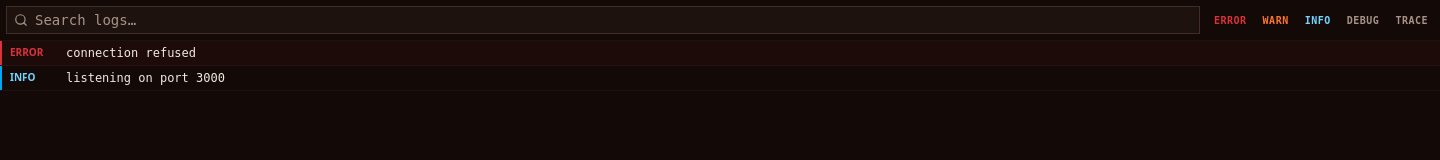
Test: switches solo to the newly clicked level
The width and height of the screenshot is (1440, 160).
Click the button "ERROR": click(1230, 20) [1208,10,1253,30]
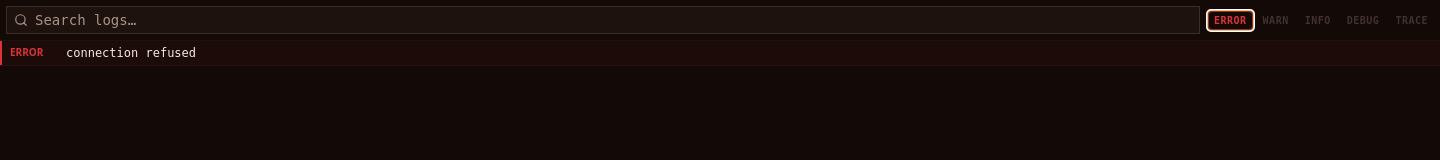
Click the button "INFO": click(1318, 20) [1299,10,1337,30]
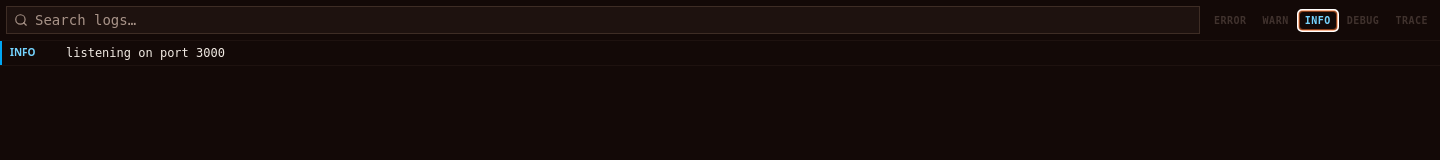
Expected: the text "connection refused" is gone
Expected: the text "listening on port 3000" is shown, [66,46,225,60]
